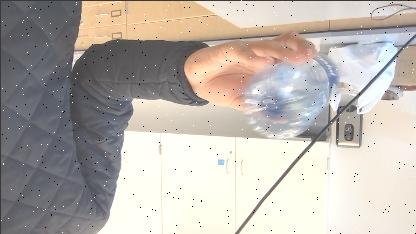Plastic Bottle: (239, 46, 344, 142)
